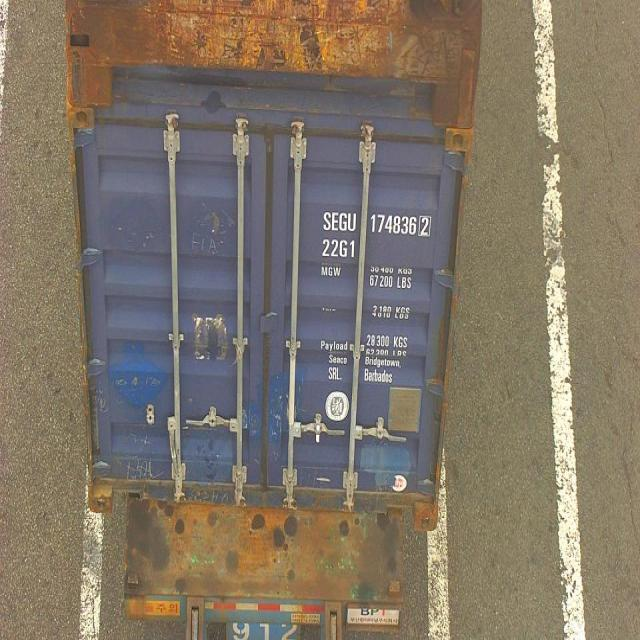ISO: (320, 236, 358, 258)
container_number: (322, 207, 432, 237)
